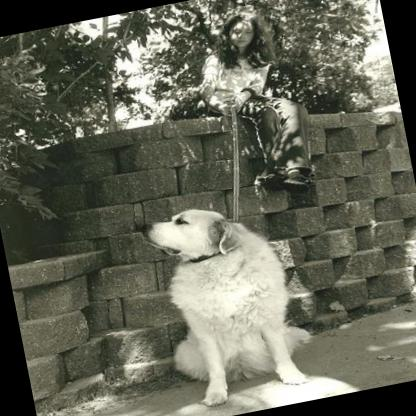Great_Pyrenees: (129, 188, 322, 416)
